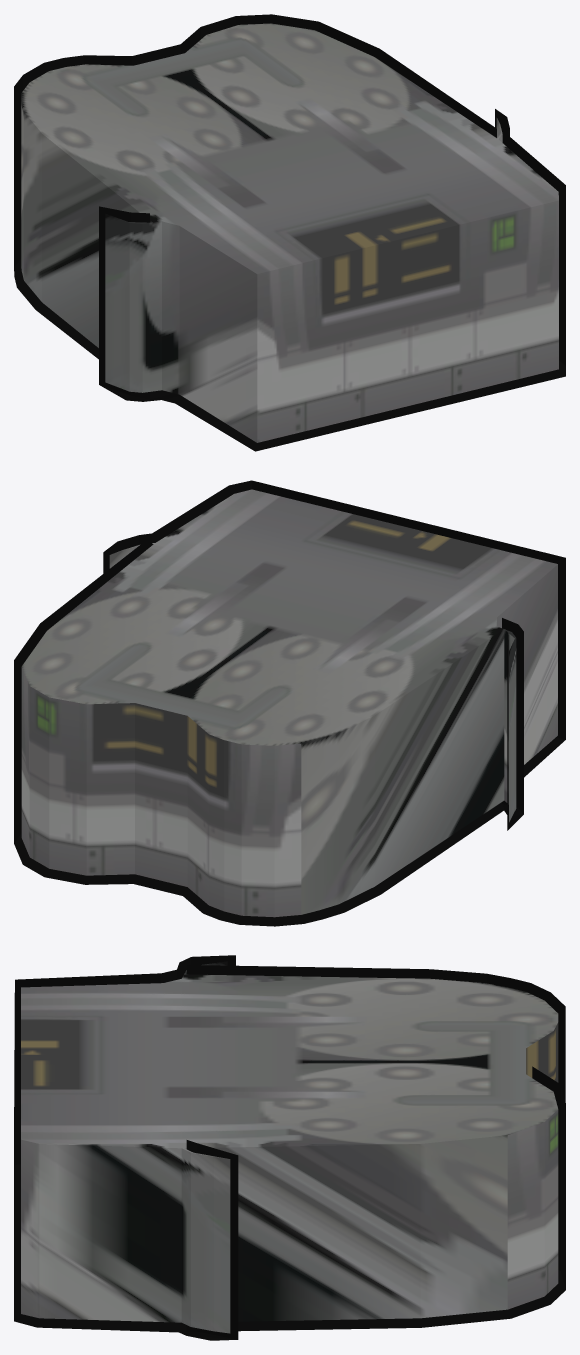
File: Building_Defoliator_Things_Building_Mech_Defoliator.glb
The picture shows the model from 3 angles, top to bottom: view 1: azimuth 30°, elevation 25°; view 2: azimuth 150°, elevation 25°; view 3: azimuth 270°, elevation 25°; orthographic projection. The views are drawn at different scales.
Parts seen in each view (by area): view 1: Body, Outline; view 2: Body, Outline; view 3: Body, Outline.
Part boxes in pixels (x1,y1,x2,y2): Body: [21, 23, 558, 442]; Outline: [14, 14, 565, 451]; Body: [21, 489, 557, 917]; Outline: [14, 480, 565, 926]; Body: [21, 961, 558, 1333]; Outline: [14, 955, 565, 1340].
Bounding box in the file's own units: 1.44 × 0.6453 × 1.68.
Materials: 2 (1 with a texture image).
